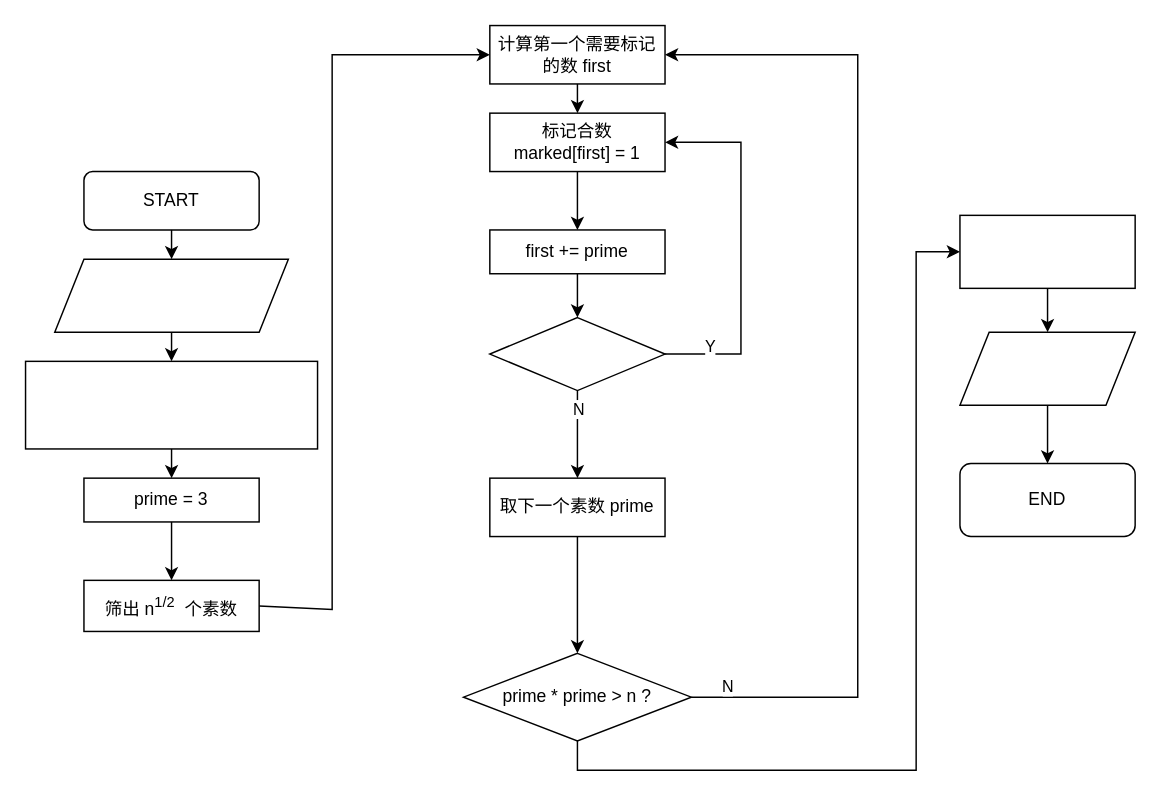
Image size: 1161x807. Some labels were removed from this diagram. The centre of each missing label's shape, as x and y in pixels:
"first < size ?" goes at (x=576, y=353).
"统计区间内素数数量，归约到进程 0 号" goes at (x=1046, y=251).
"计算上下界 low_value, high_value 区间大小 size" goes at (x=171, y=404).
"该进程编号 id 总进程数 p 总数 n" goes at (x=170, y=295).
"输出总素数数量" goes at (x=1046, y=368).
